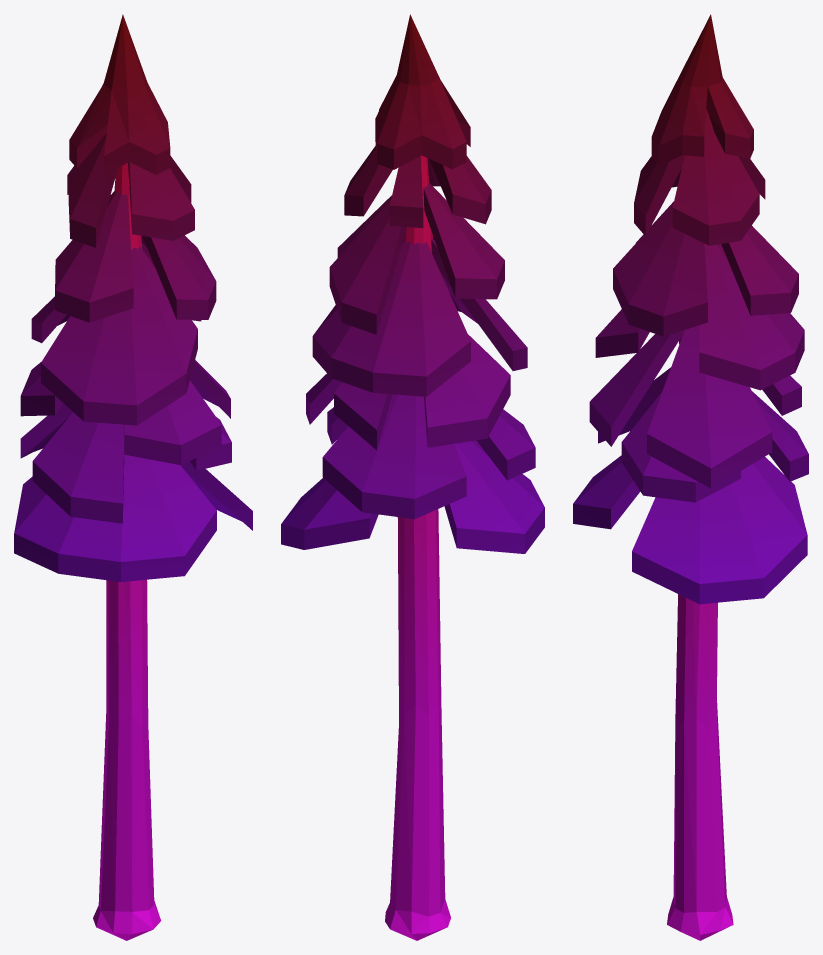
File: synty-tree-polypine-sparse-02.gltf
The picture shows the model from 3 angles, left to right: view 1: azimuth 30°, elevation 25°; view 2: azimuth 150°, elevation 25°; view 3: azimuth 270°, elevation 25°; orthographic projection.
Visible parts, largest first — view 1: SM_Tree_PolyPine_Sparse_02; view 2: SM_Tree_PolyPine_Sparse_02; view 3: SM_Tree_PolyPine_Sparse_02.
Part boxes in pixels (box(x1,y1,x2,y2)): SM_Tree_PolyPine_Sparse_02: box(14, 14, 252, 940); SM_Tree_PolyPine_Sparse_02: box(281, 14, 544, 940); SM_Tree_PolyPine_Sparse_02: box(573, 14, 808, 940).
Bounding box in the file's own units: 1.48 × 5.78 × 1.33.
